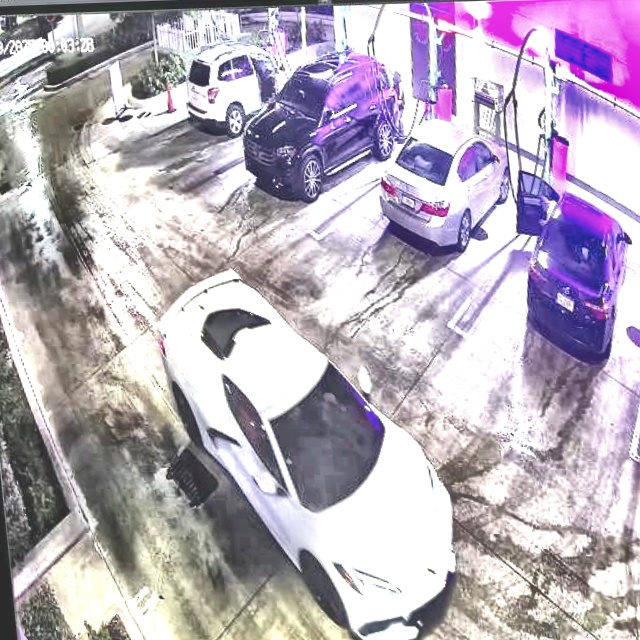Car: (157, 267, 471, 640), (236, 52, 410, 198), (375, 117, 519, 251)
